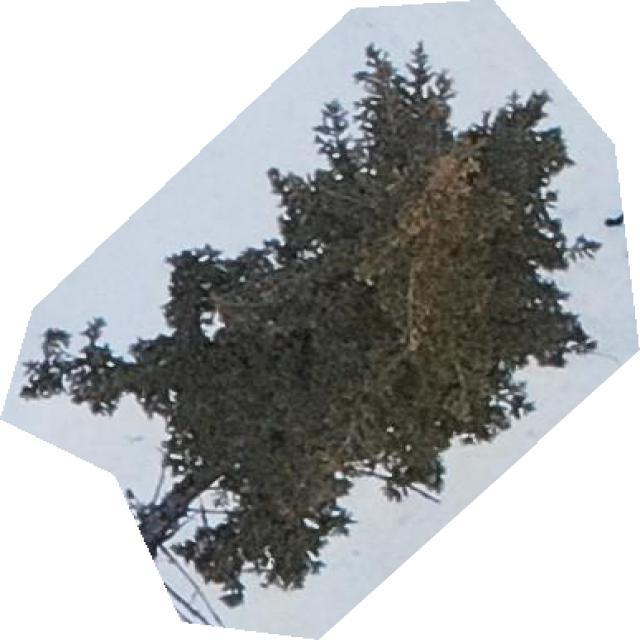spruce: (6, 0, 633, 636)
